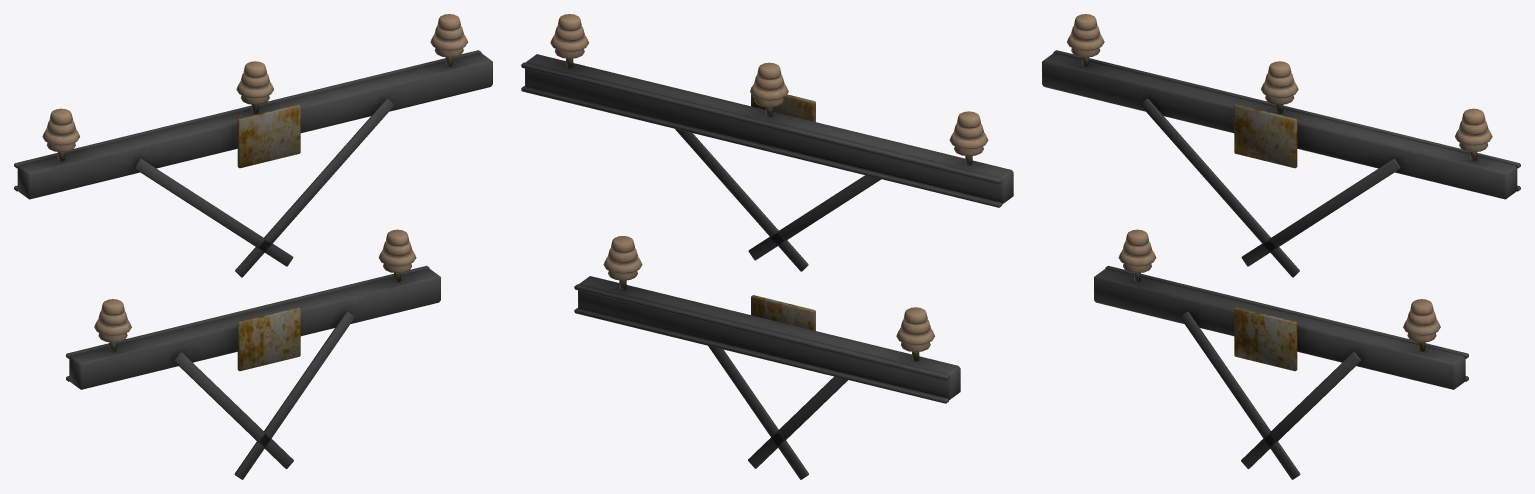
The model's file is thai_pole_arms.glb.
3 renders of one model, left to right at view 1: azimuth 30°, elevation 25°; view 2: azimuth 150°, elevation 25°; view 3: azimuth 330°, elevation 25°, orthographic. The views are drawn at different scales.
Parts seen in each view (by area): view 1: thai_pole_arms; view 2: thai_pole_arms; view 3: thai_pole_arms.
Boxes of the visible parts, box(x1,y1,x2,y2) form: thai_pole_arms: box(14, 14, 492, 479); thai_pole_arms: box(521, 14, 1013, 479); thai_pole_arms: box(1042, 14, 1520, 479).
Bounding box in the file's own units: 1.8 × 1.49 × 0.1635.
1 material, 1 textured.
